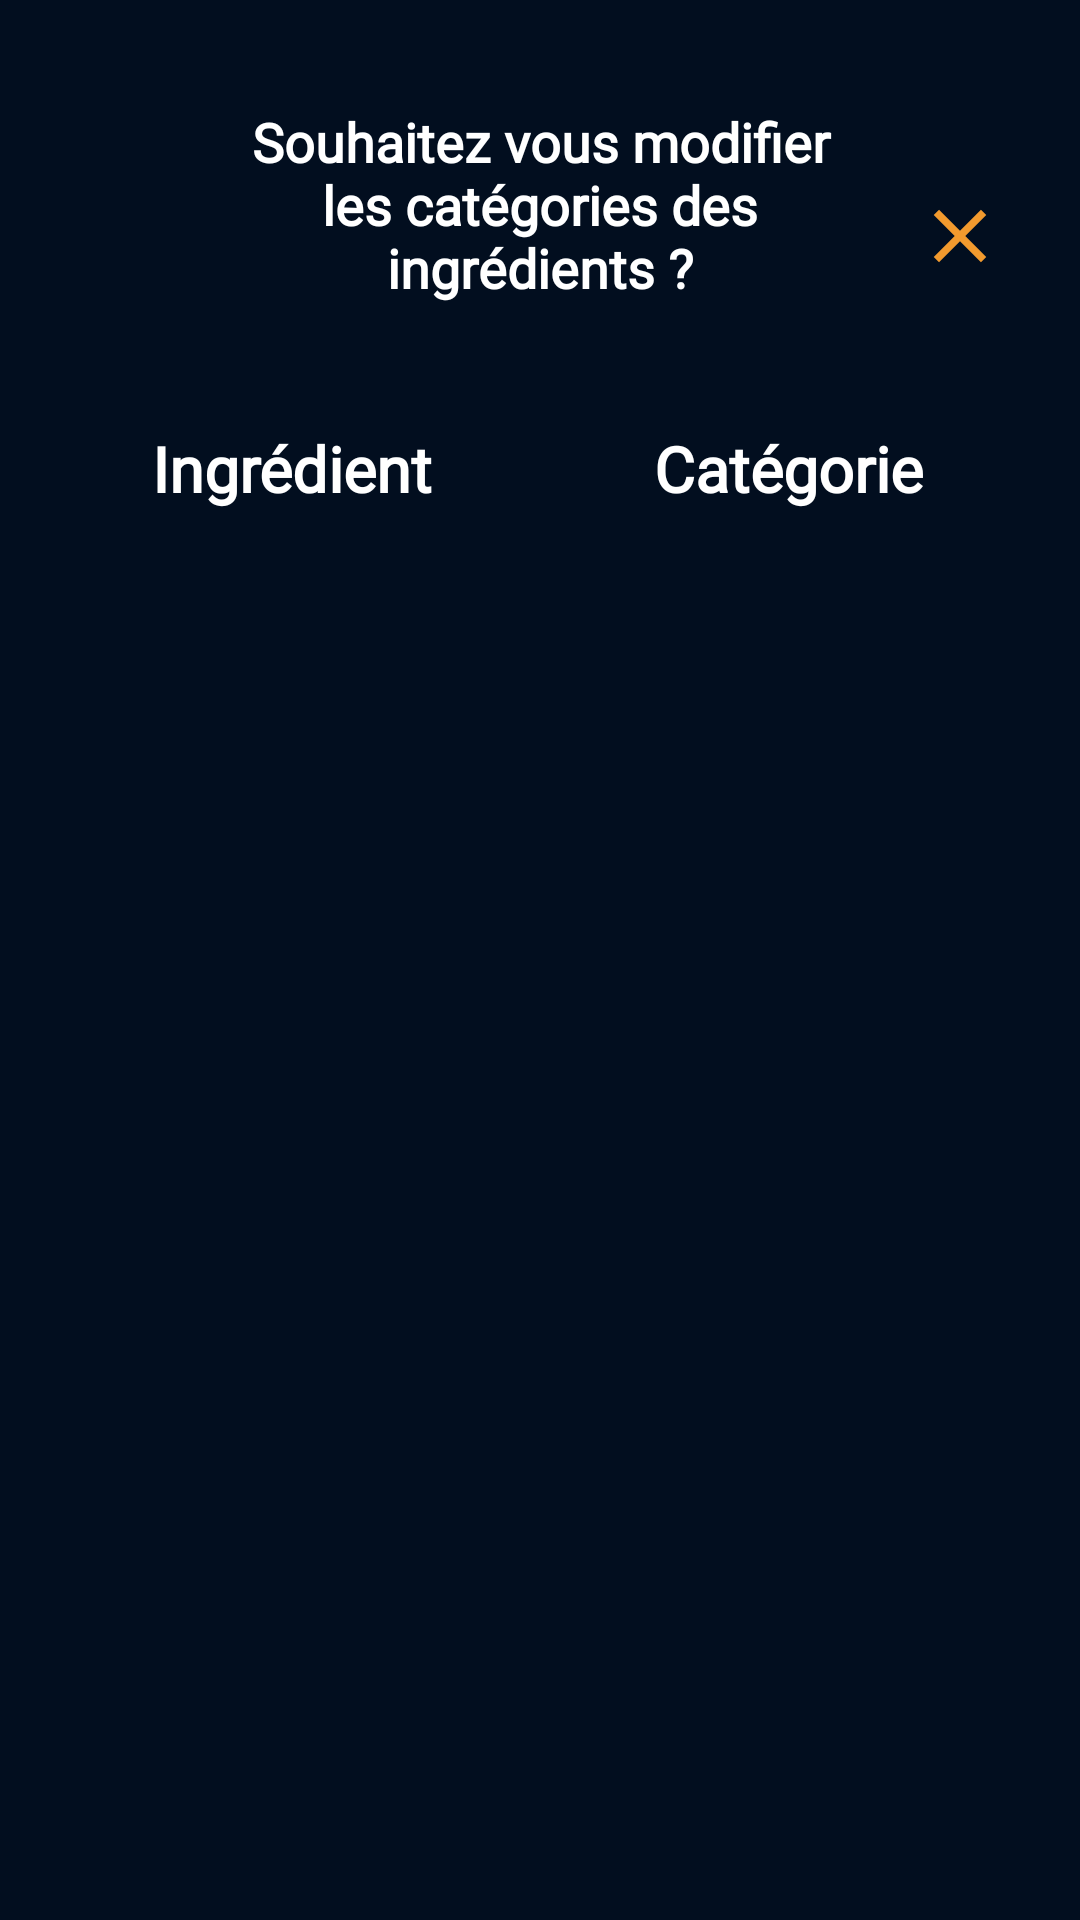

Icons on this 1080px×1920px Android screen, each with its box as (x1, y1, x2, y2):
close: (934, 210, 986, 262)
